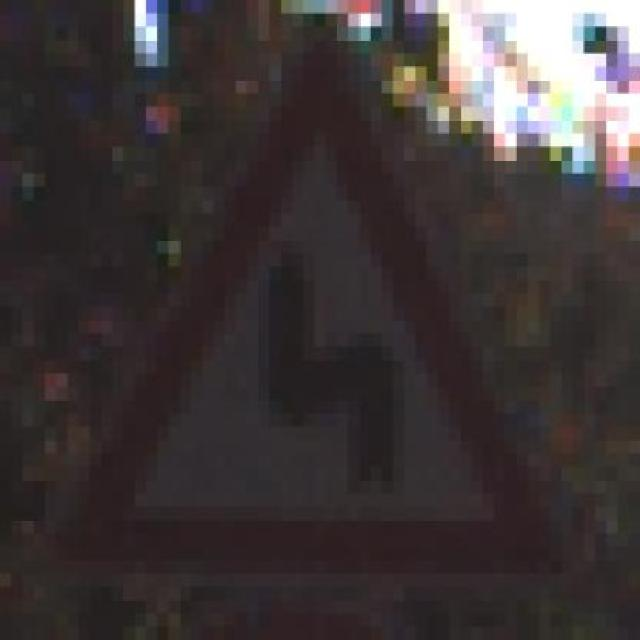Left Zig Zag Traffic: (45, 39, 572, 587)
